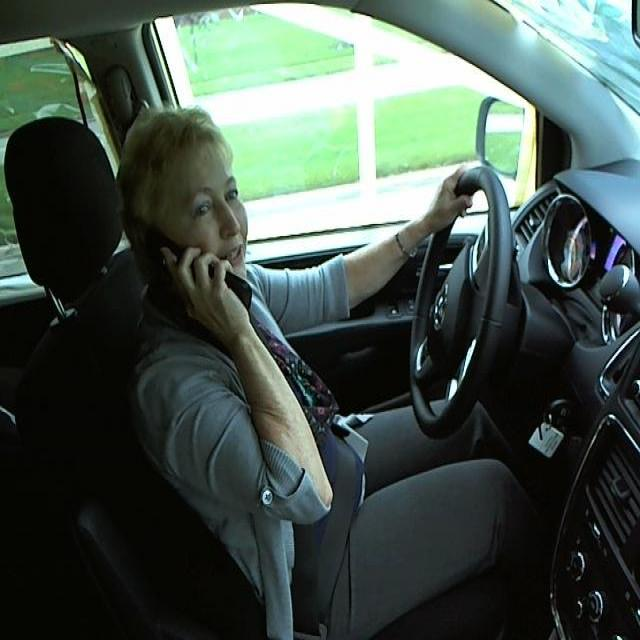using_phone: (87, 90, 315, 378)
